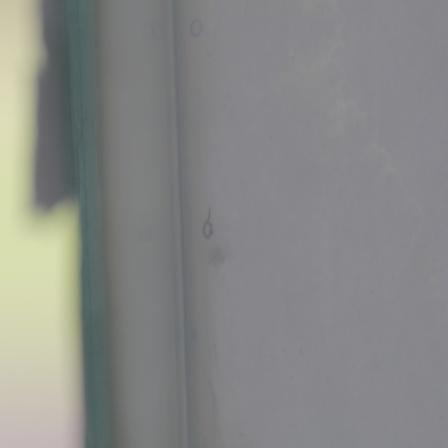Jentik-Nyamuk: (198, 198, 218, 245)
